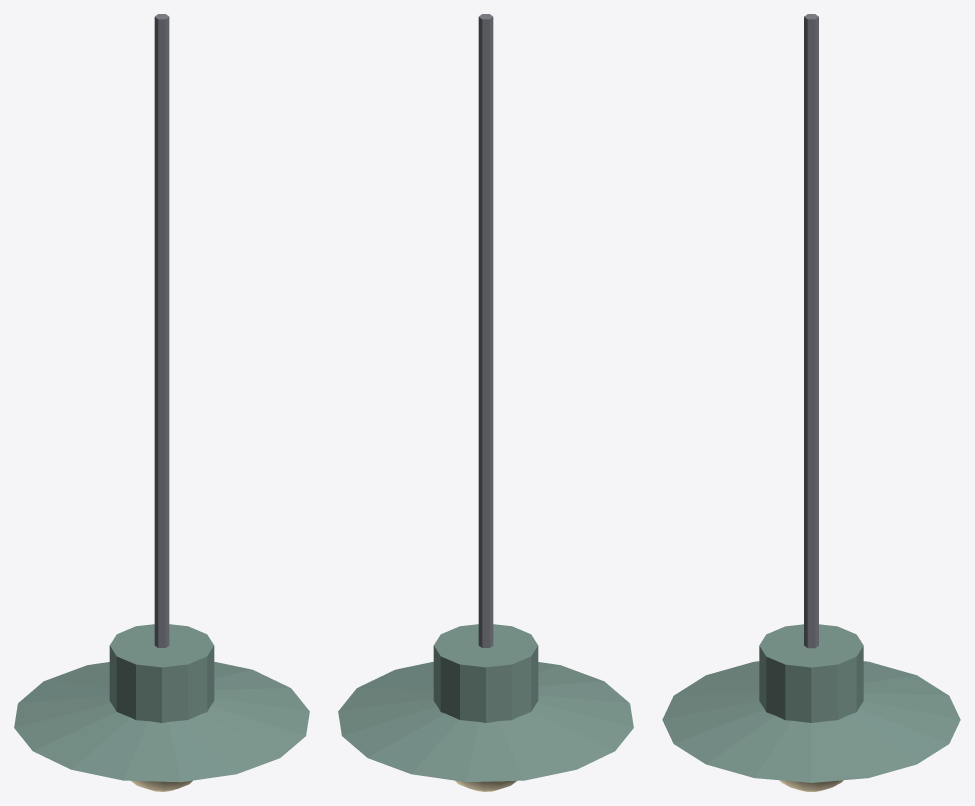
The model's file is kit__lamp.fbx.
The picture shows the model from 3 angles, left to right: view 1: azimuth 30°, elevation 25°; view 2: azimuth 150°, elevation 25°; view 3: azimuth 270°, elevation 25°; orthographic projection.
Visible parts, largest first — view 1: kit__lamp; view 2: kit__lamp; view 3: kit__lamp.
Boxes of the visible parts, bbox=[...] form: kit__lamp: bbox=[14, 14, 309, 791]; kit__lamp: bbox=[338, 14, 633, 791]; kit__lamp: bbox=[662, 14, 960, 791].
Size of the model in its own units: 0.8 by 2.28 by 0.8.
